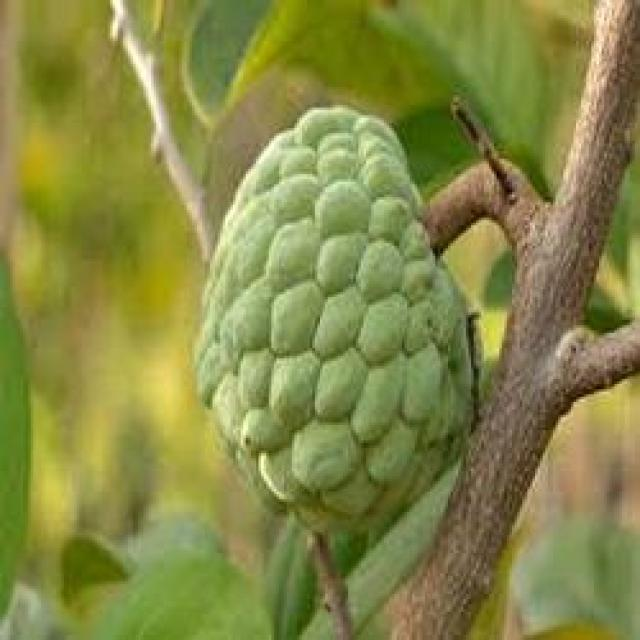apple: (192, 90, 492, 522)
